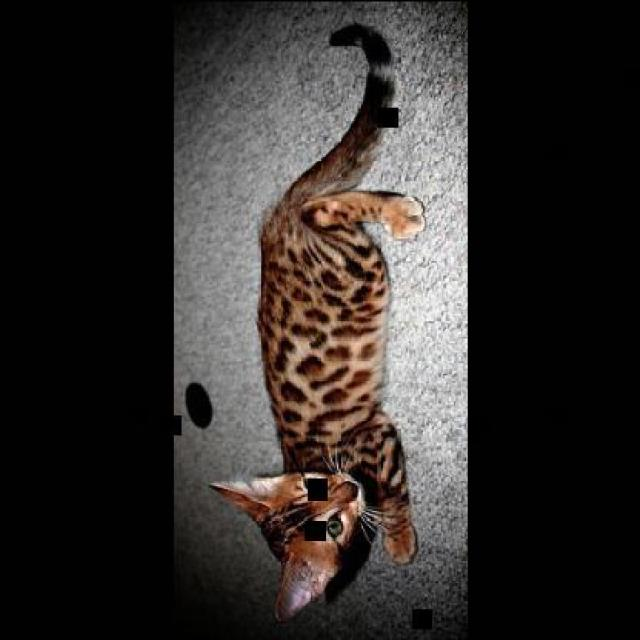unauthorized: (206, 20, 426, 623)
